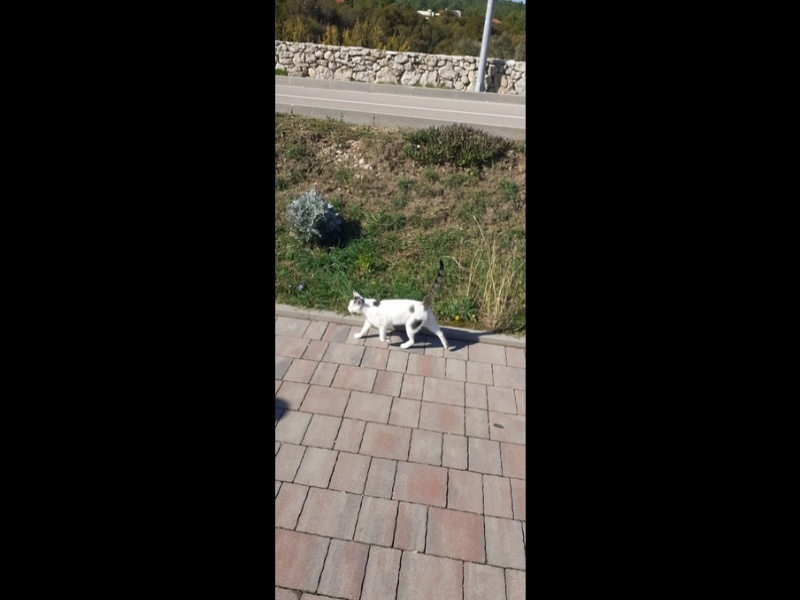cat: (346, 257, 453, 357)
